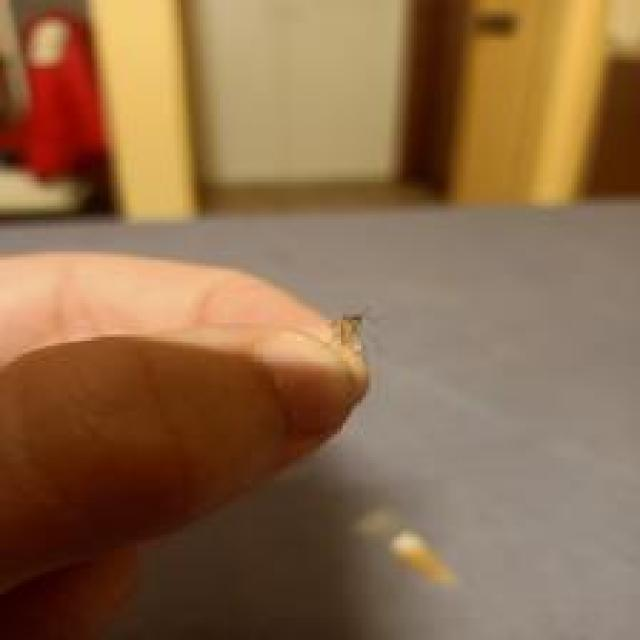Culex: (350, 506, 459, 591)
